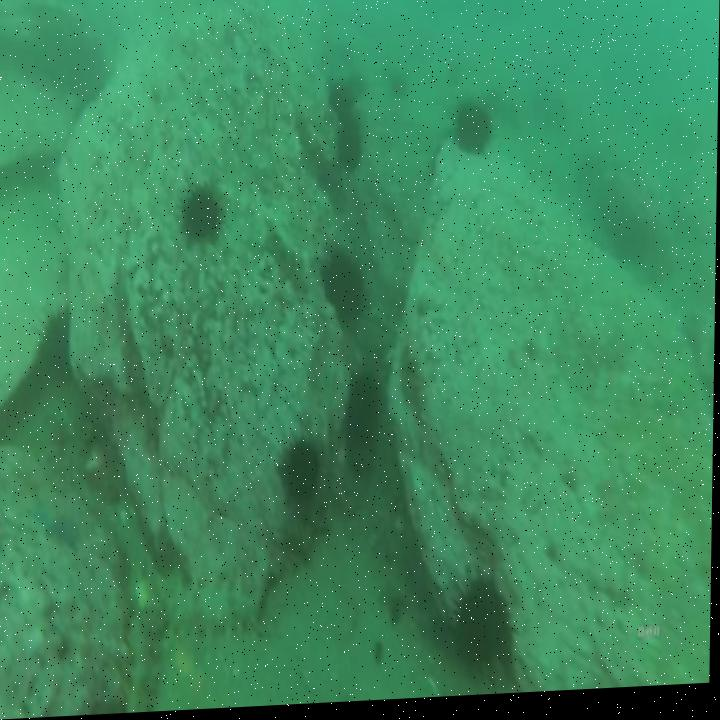echinus: (445, 564, 519, 697), (318, 246, 371, 335), (174, 179, 228, 259), (277, 429, 326, 515), (341, 370, 387, 455), (35, 301, 73, 393), (450, 97, 496, 168), (335, 113, 367, 185), (326, 78, 359, 125), (388, 70, 412, 110)
holothurian: (151, 563, 268, 653), (120, 606, 165, 715)
